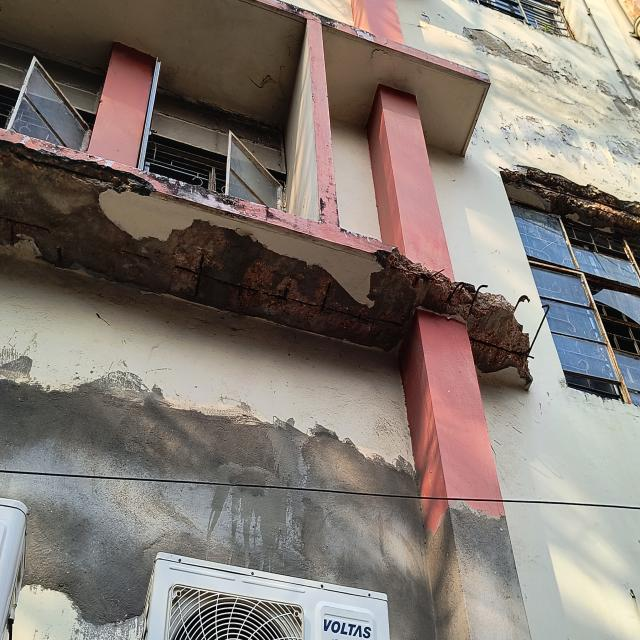Incomplete Plaster Work: (0, 379, 530, 639)
Paint Peeling: (500, 113, 640, 202)
Scaling: (463, 28, 578, 85), (598, 80, 640, 117)
Spalling: (0, 140, 529, 377)
pollution -moisture induced blackening: (249, 0, 491, 84)
